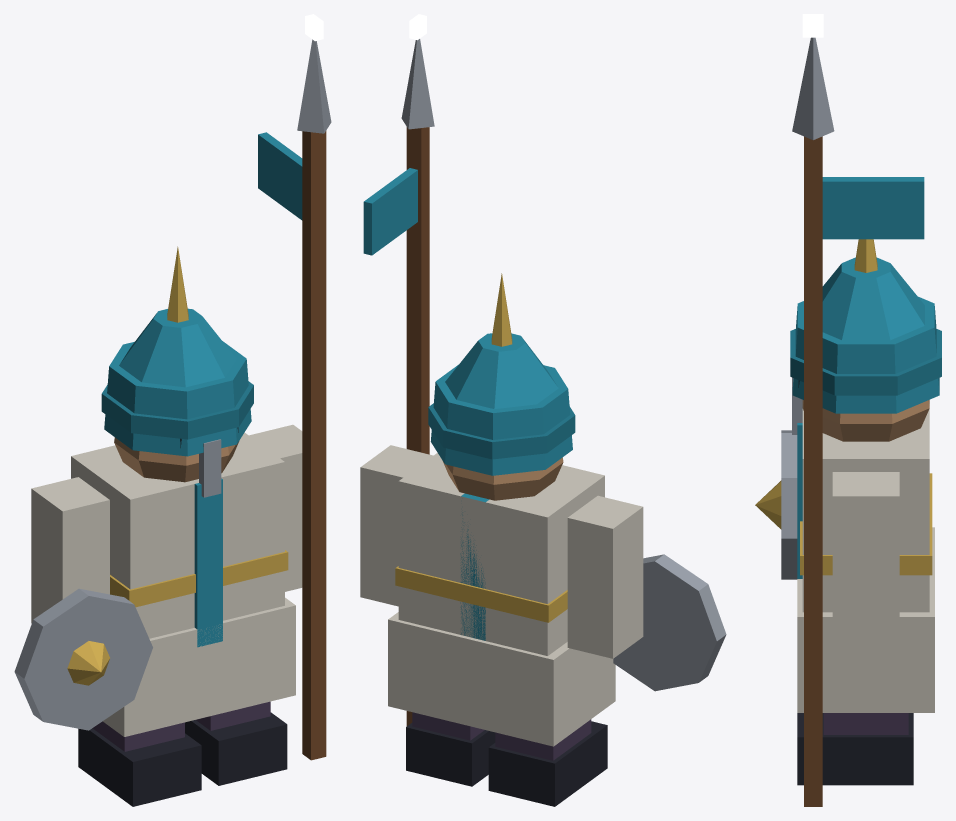
The model's file is unit_soldier.glb.
The picture shows the model from 3 angles, left to right: view 1: azimuth 30°, elevation 25°; view 2: azimuth 150°, elevation 25°; view 3: azimuth 270°, elevation 25°; orthographic projection. The views are drawn at different scales.
Parts seen in each view (by area): view 1: body, arm_r, arm_l, leg_l, leg_r; view 2: body, arm_l, arm_r, leg_l, leg_r; view 3: body, arm_r, leg_r, arm_l, glow.
Boxes of the visible parts, x1,y1,x2,y2 form: body: (71,246,295,736); arm_r: (249,39,331,760); arm_l: (14,477,152,730); leg_l: (78,721,201,806); leg_r: (185,701,287,785); body: (388,273,615,746); arm_l: (567,495,726,691); arm_r: (360,39,434,726); leg_l: (488,719,607,806); leg_r: (406,712,495,786); body: (790,239,941,712); arm_r: (792,37,924,806); leg_r: (797,713,913,785); arm_l: (755,430,797,579); glow: (802,14,823,37).
Bounding box in the file's own units: 0.755 × 1.64 × 0.3532.
